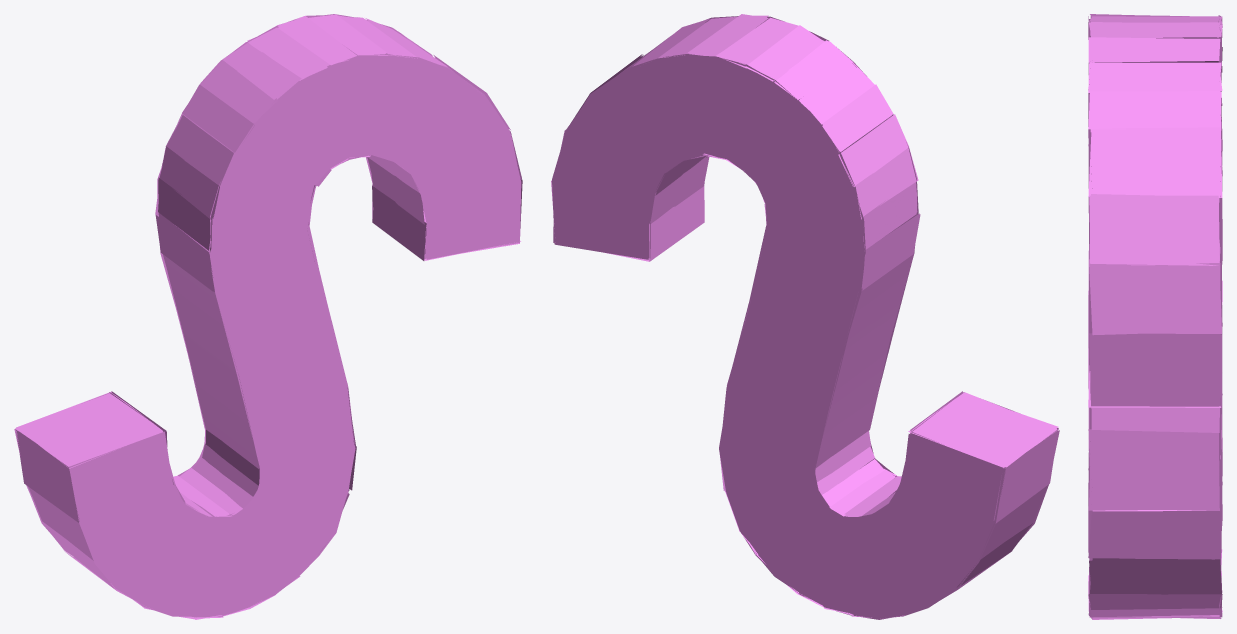
File: original-32.obj
3 renders of one model, left to right at view 1: azimuth 30°, elevation 25°; view 2: azimuth 150°, elevation 25°; view 3: azimuth 270°, elevation 25°, orthographic. The views are drawn at different scales.
Visible parts, largest first — view 1: group_13/ID215#ID215; view 2: group_13/ID215#ID215; view 3: group_13/ID215#ID215.
Part boxes in pixels (x1,y1,x2,y2): group_13/ID215#ID215: (14,14,522,619); group_13/ID215#ID215: (551,14,1059,619); group_13/ID215#ID215: (1088,14,1222,619).
Bounding box in the file's own units: 0.0288 × 0.032 × 0.00607.
